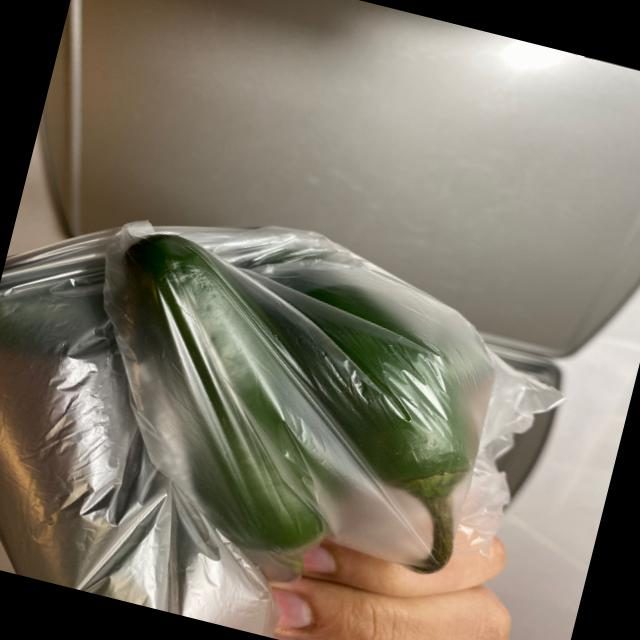chilli: (0, 181, 604, 640)
